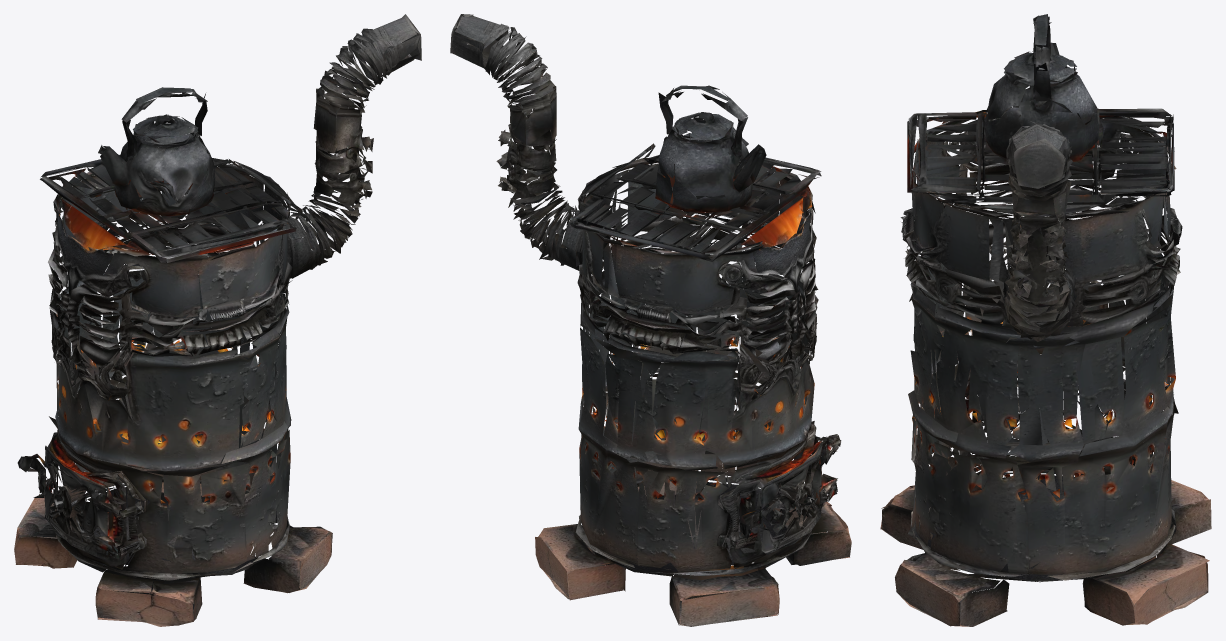
The model's file is life_barrel_heater.glb.
The picture shows the model from 3 angles, left to right: view 1: azimuth 30°, elevation 25°; view 2: azimuth 150°, elevation 25°; view 3: azimuth 270°, elevation 25°; orthographic projection. The views are drawn at different scales.
Parts seen in each view (by area): view 1: node_0; view 2: node_0; view 3: node_0.
Boxes of the visible parts, box(x1,y1,x2,y2) form: node_0: box(14, 14, 421, 626); node_0: box(450, 14, 851, 626); node_0: box(880, 14, 1211, 626).
Size of the model in its own units: 0.7229 by 0.9441 by 0.5099.
1 material, 1 textured.
